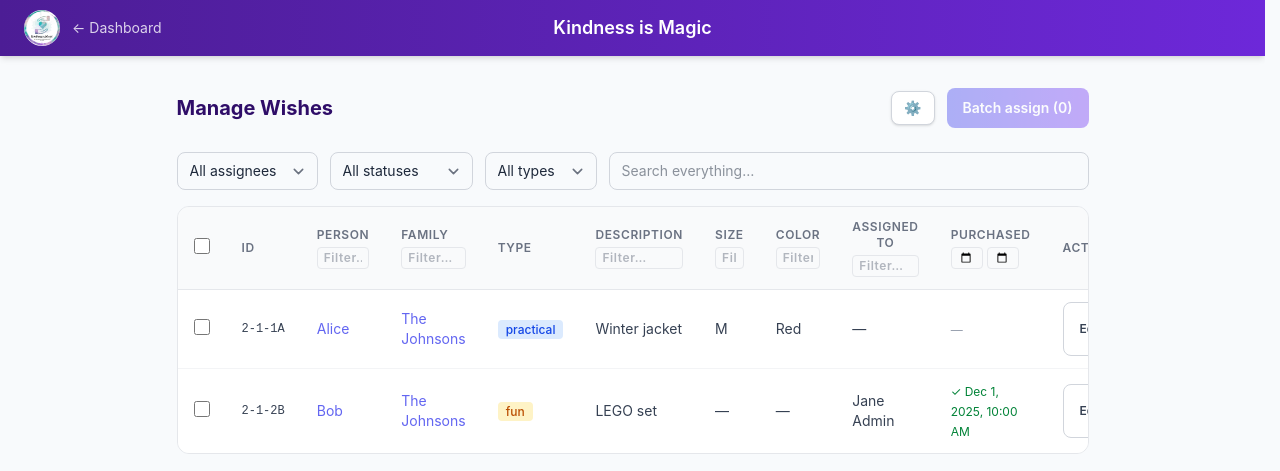
Scenario: AdminWishes › clears checkbox selection when assigned-to filter changes
This screenshot has width=1280, height=471.
Expected: the link "Alice" is shown, [317,320,349,337]
Select all wishes
Click the checkbox named "Select all wishes on this page" at [202, 246], box [194,238,210,254]
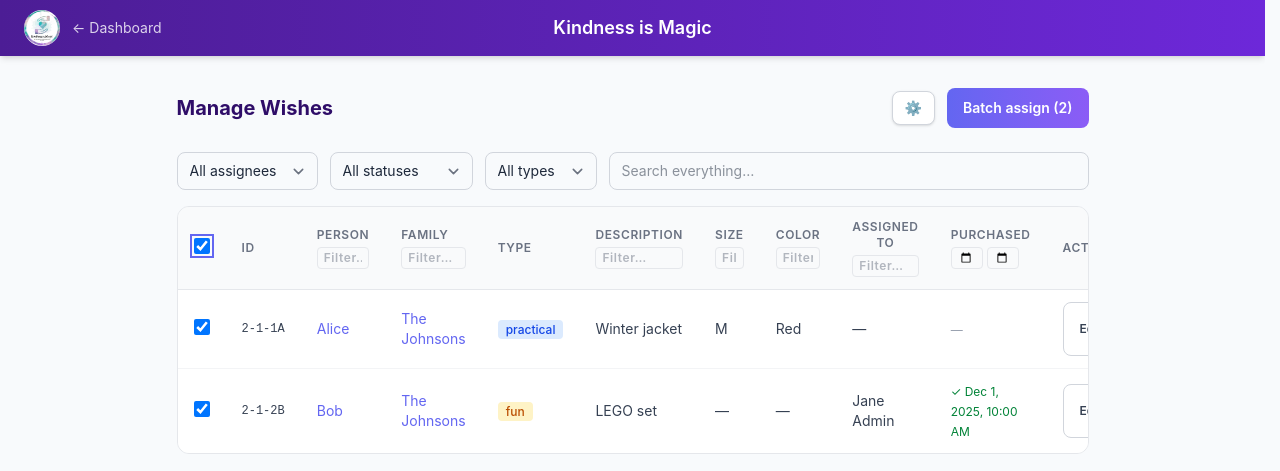
Now the button "Batch assign (2)" is shown, box [947,88,1088,128]
Select "Jane Admin" in the dropdown "All assignees" at [247, 171], box [176,152,318,190]
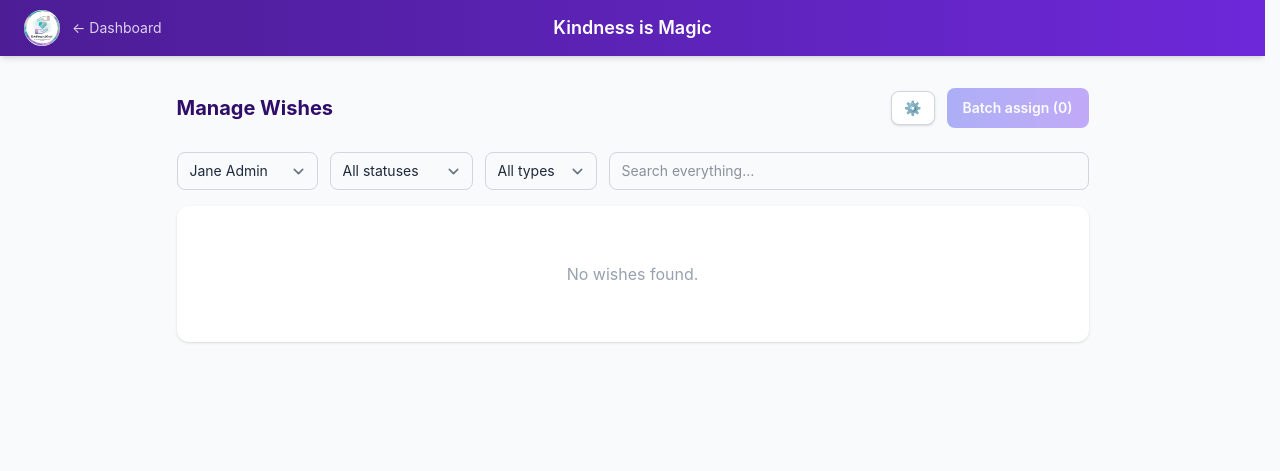
Now the button "Batch assign (0)" is shown, box [946,88,1088,128]
